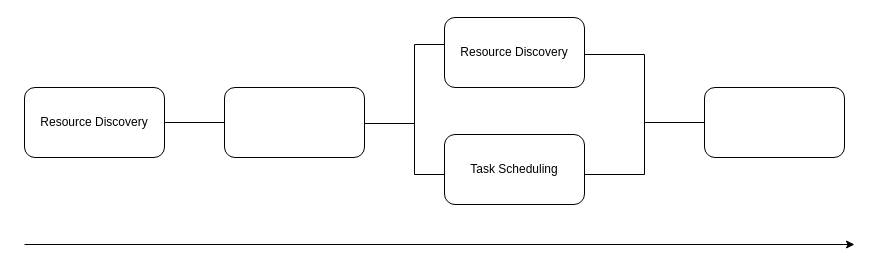
Image size: 880x270. Some labels were removed from this diagram. The centre of each missing label's shape, as x and y in pixels:
"Performance-Aware management" goes at (x=774, y=122).
"Workload Characterization" goes at (x=294, y=122).
